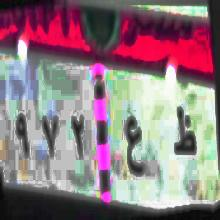2: (70, 105, 89, 172)
7: (41, 105, 60, 169)
9: (13, 104, 35, 170)
Thaa: (173, 106, 196, 167)
ain: (124, 110, 145, 182)
